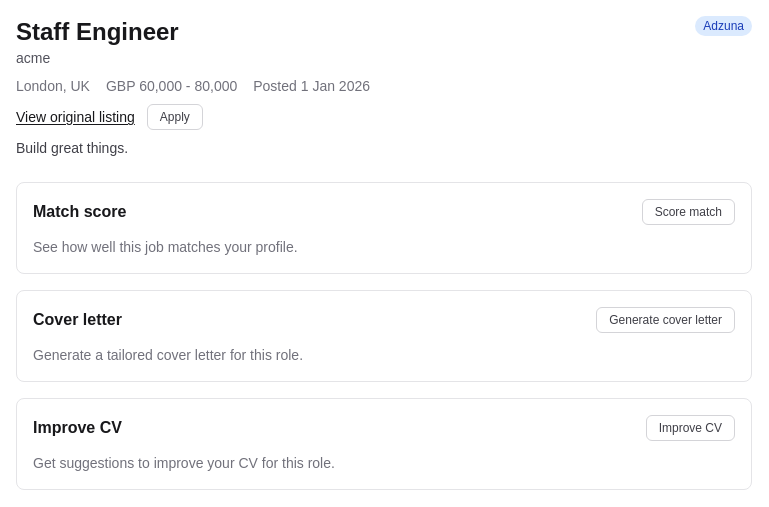
JobDetailScreen › applies to the job and shows a confirmation, reusing POST /api/applications
This screenshot has width=769, height=507.
Check: the heading "Staff Engineer" is shown, box [16,16,179,48]
Click the button "Apply".
click(175, 117)  # box [147,104,203,130]
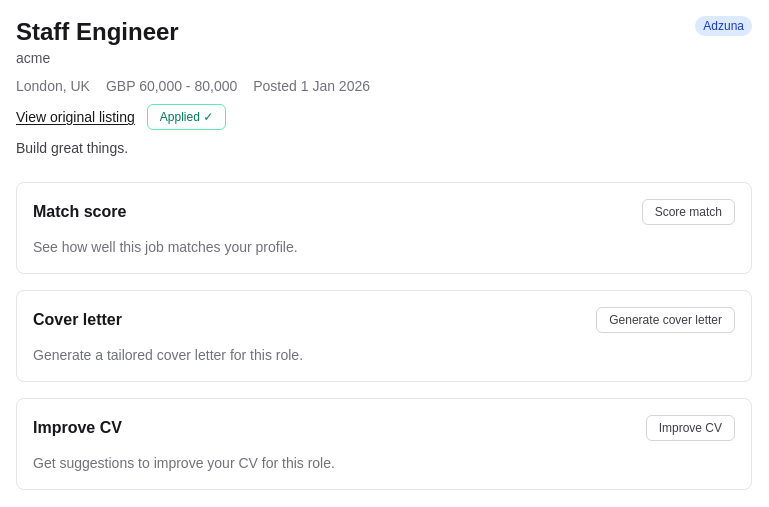
Check: the text "Applied ✓" is shown, box [147,104,226,130]
